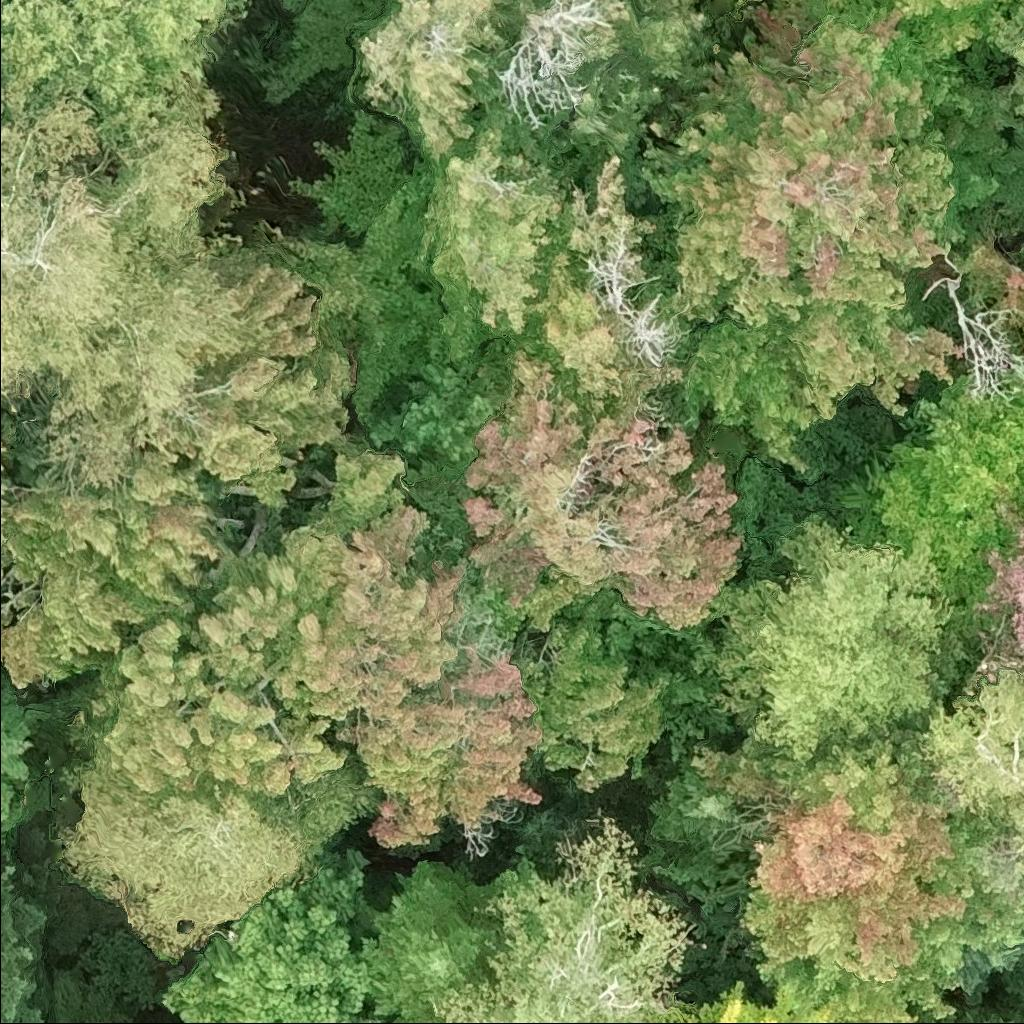crown: (71, 448, 546, 847), (0, 245, 355, 690), (0, 78, 277, 484), (642, 0, 958, 329), (691, 727, 1023, 1023), (457, 348, 744, 640), (687, 516, 1001, 765), (52, 756, 378, 964), (428, 807, 697, 1023), (673, 304, 966, 478), (349, 0, 586, 184), (162, 847, 379, 1023), (862, 373, 1023, 606), (415, 125, 570, 361), (0, 0, 255, 141), (512, 601, 677, 793), (898, 662, 1023, 915), (508, 246, 681, 418), (365, 858, 501, 1023), (495, 0, 610, 127), (584, 0, 730, 100), (921, 269, 1023, 406), (799, 0, 1017, 58), (562, 156, 657, 274), (643, 754, 741, 847), (0, 856, 52, 1023), (656, 978, 846, 1023), (973, 518, 1023, 666), (0, 685, 46, 826), (993, 0, 1023, 129), (0, 426, 20, 575), (920, 1001, 1023, 1023), (902, 1011, 925, 1023)
